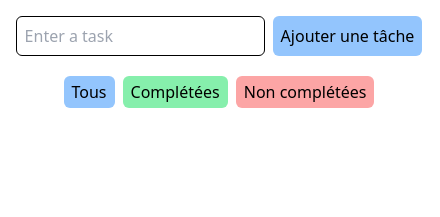
Test case: TaskList Component › Devrait afficher une liste de tâches
The image size is (440, 217).
Type "Tâche 1" into the field with test id "task-input" at point(141, 36), box [16,16,265,56]
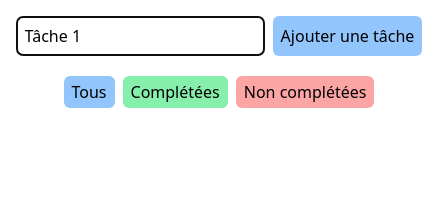
Click the button with test id "add-task-btn" at point(348, 36), box [273,16,423,56]
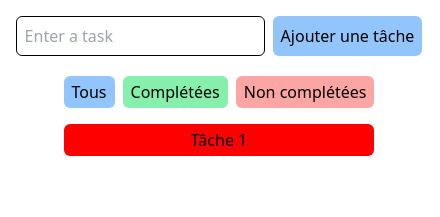
Type "Tâche 2" into the field with test id "task-input" at point(141, 36), box [16,16,265,56]
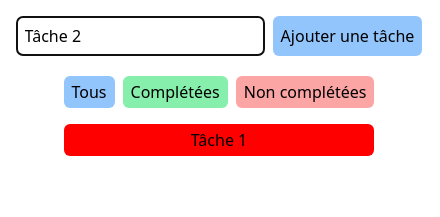
Click the button with test id "add-task-btn" at point(348, 36), box [273,16,423,56]
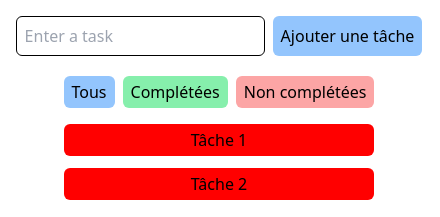
Now the number of buttons with test id "task-item" is 2, box [64,124,374,156]; [64,168,374,200]
